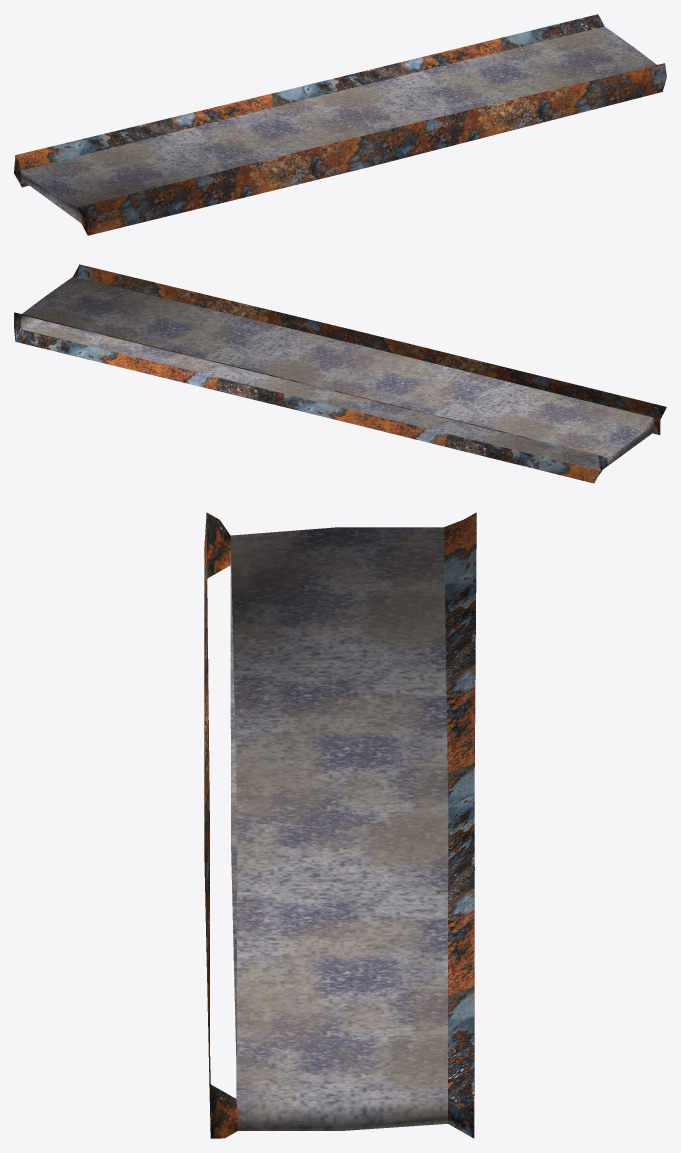
File: plat5.obj
3 views of the same model, one above another, from view 1: azimuth 30°, elevation 25°; view 2: azimuth 150°, elevation 25°; view 3: azimuth 270°, elevation 25° (orthographic). The views are drawn at different scales.
Visible parts, largest first — view 1: Cube; view 2: Cube; view 3: Cube.
Part boxes in pixels (x1=…): Cube: x1=14, y1=14, x2=666, y2=235; Cube: x1=14, y1=264, x2=666, y2=483; Cube: x1=204, y1=512, x2=476, y2=1138.
Bounding box in the file's own units: 5.15 × 0.2666 × 1.03.
2 materials, 2 textured.
